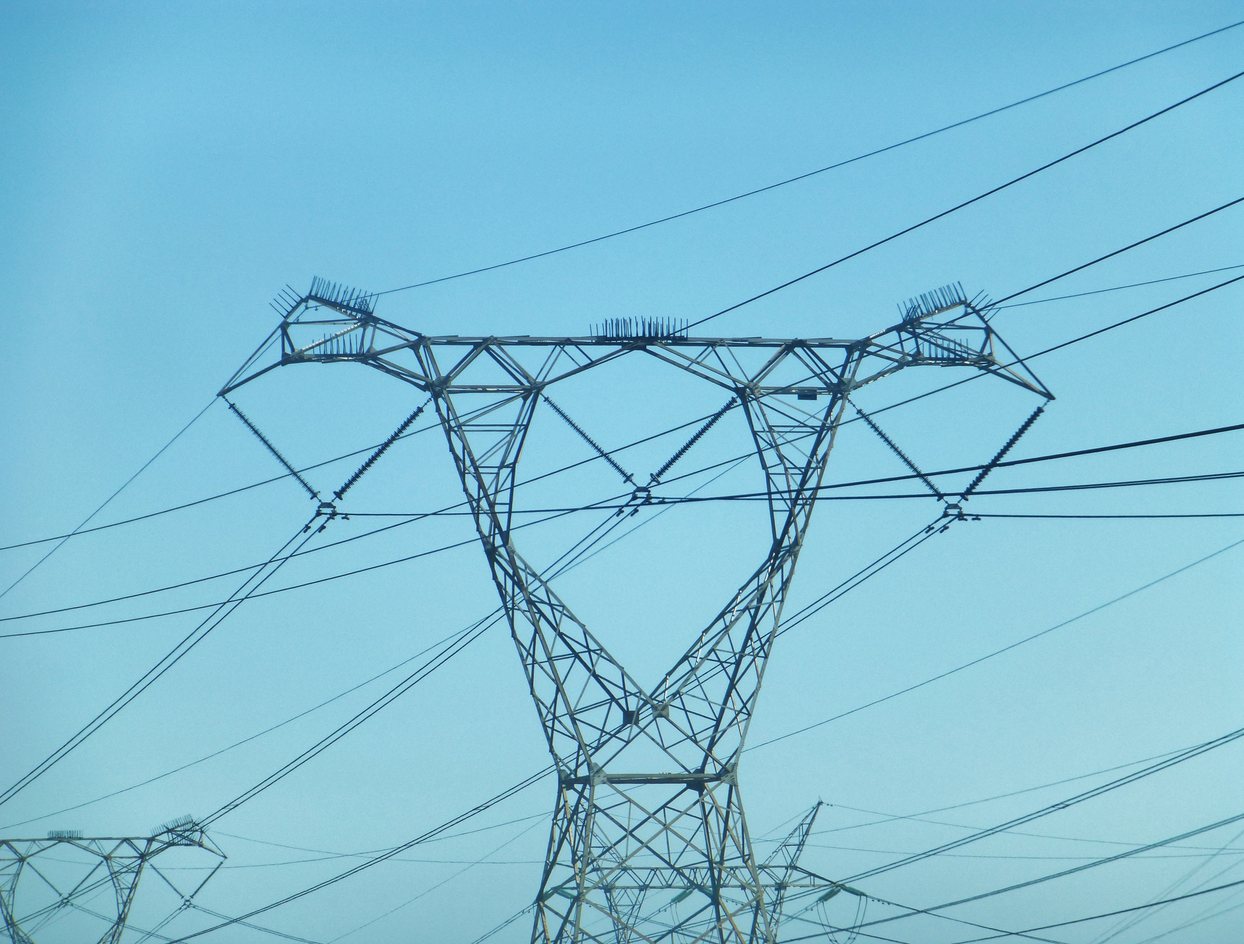insulator: (851, 401, 954, 506), (224, 400, 327, 503), (956, 400, 1046, 506), (542, 395, 639, 490), (336, 401, 426, 502), (646, 391, 739, 484)
